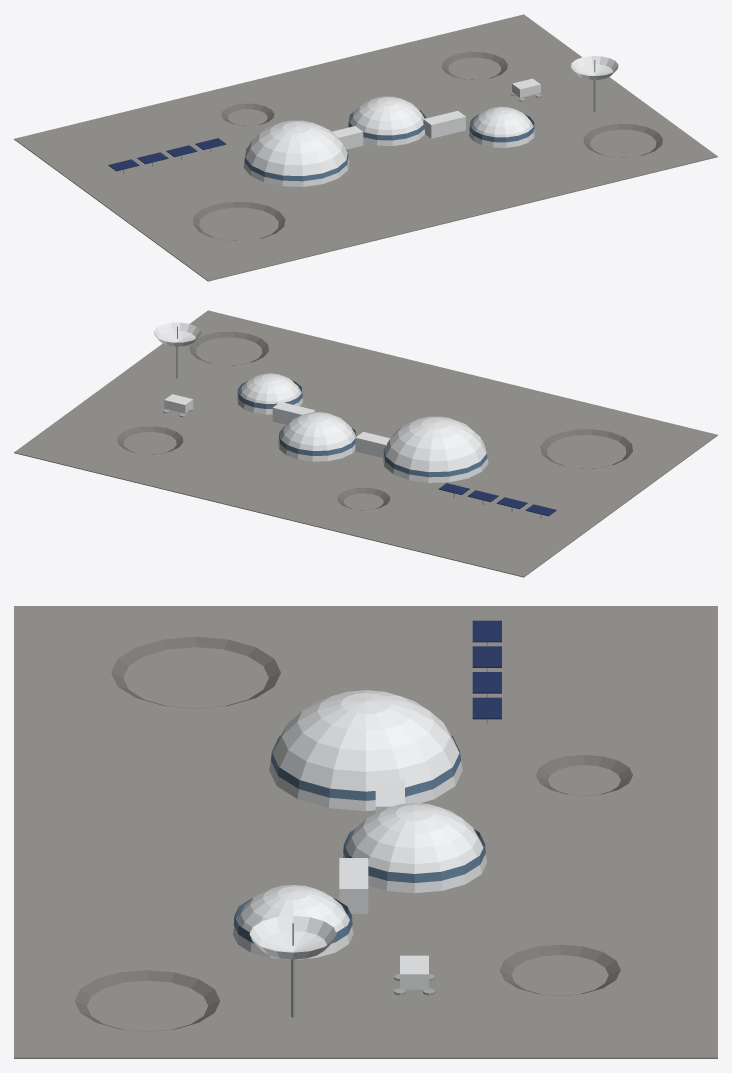
Rendered from moon_base.glb.
The picture shows the model from 3 angles, top to bottom: view 1: azimuth 30°, elevation 25°; view 2: azimuth 150°, elevation 25°; view 3: azimuth 270°, elevation 25°; orthographic projection. The views are drawn at different scales.
Parts seen in each view (by area): view 1: MoonBase_static, spinY_s20_dish; view 2: MoonBase_static, spinY_s20_dish; view 3: MoonBase_static, spinY_s20_dish.
Boxes of the visible parts, x1=… form: MoonBase_static: x1=14, y1=14, x2=717, y2=281; spinY_s20_dish: x1=571, y1=56, x2=618, y2=79; MoonBase_static: x1=14, y1=310, x2=717, y2=577; spinY_s20_dish: x1=153, y1=322, x2=201, y2=346; MoonBase_static: x1=14, y1=606, x2=717, y2=1058; spinY_s20_dish: x1=249, y1=915, x2=336, y2=959.
Bounding box in the file's own units: 88 × 8.6 × 58.
